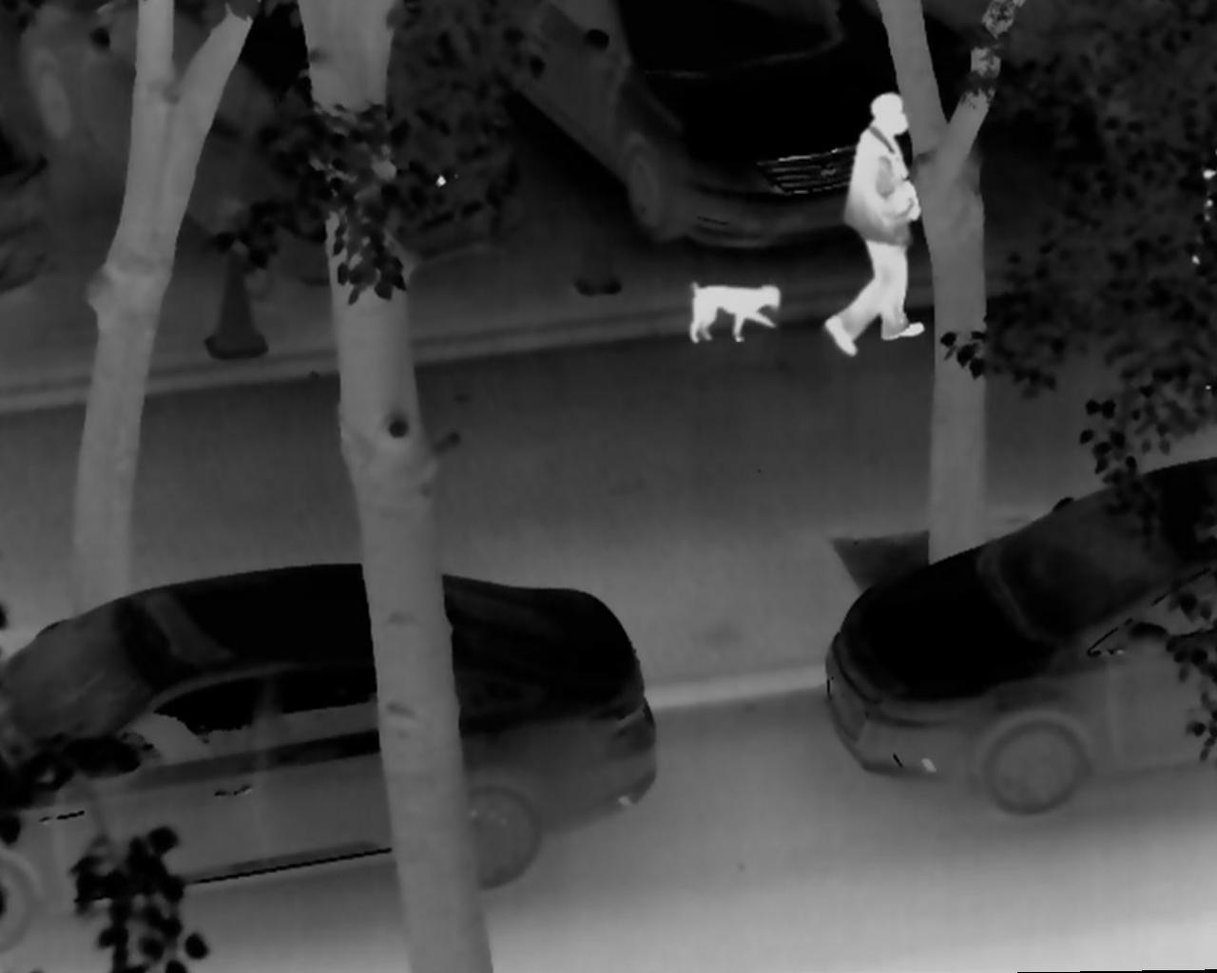person: (821, 87, 932, 360), (1171, 140, 1217, 394)
